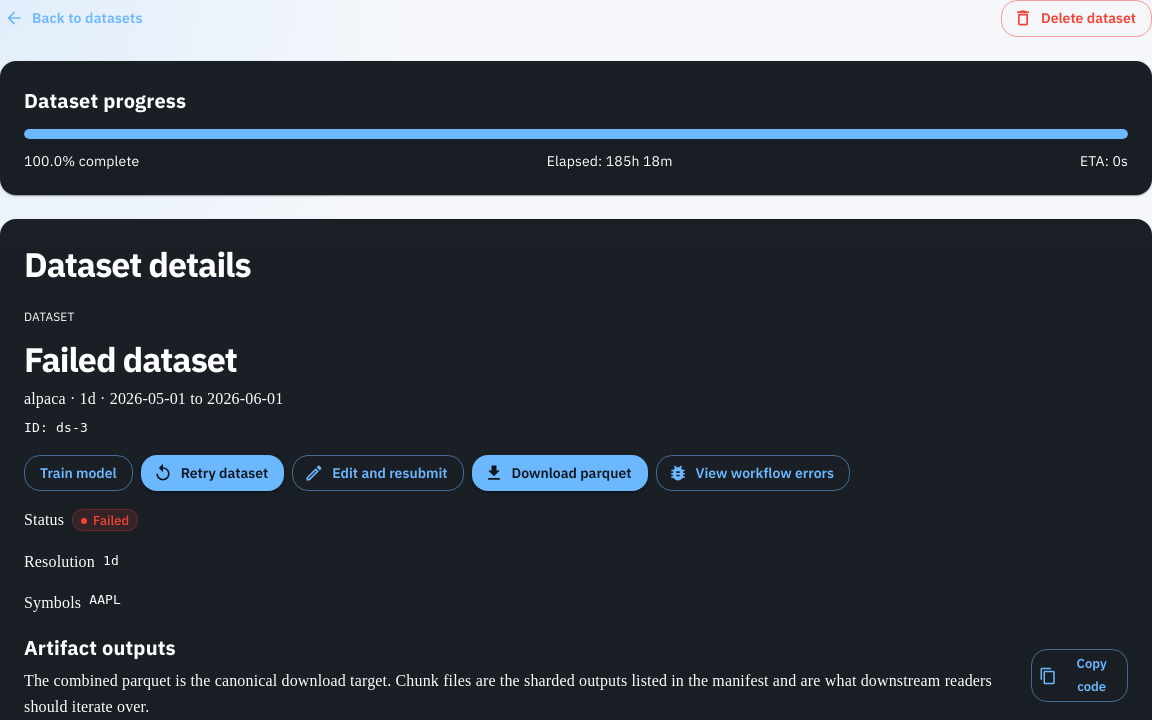
Scenario: DatasetDetailPage › shows a retry button for failed datasets and launches a retry through the confirmation modal
Click the button "Retry dataset". click: (213,473)
box: x1=141 y1=455 x2=284 y2=491
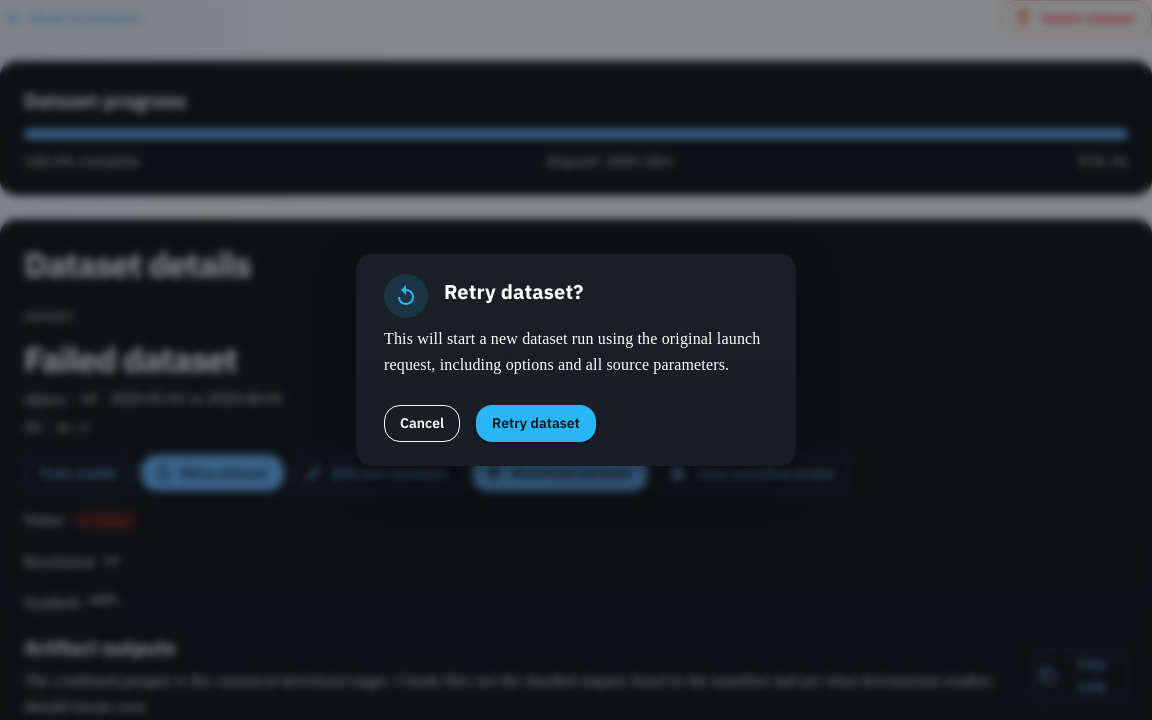
expect the text "Retry dataset?" is shown: met, box x1=444 y1=276 x2=583 y2=308
Click the button "Retry dataset". click: (536,424)
box: x1=476 y1=405 x2=596 y2=442
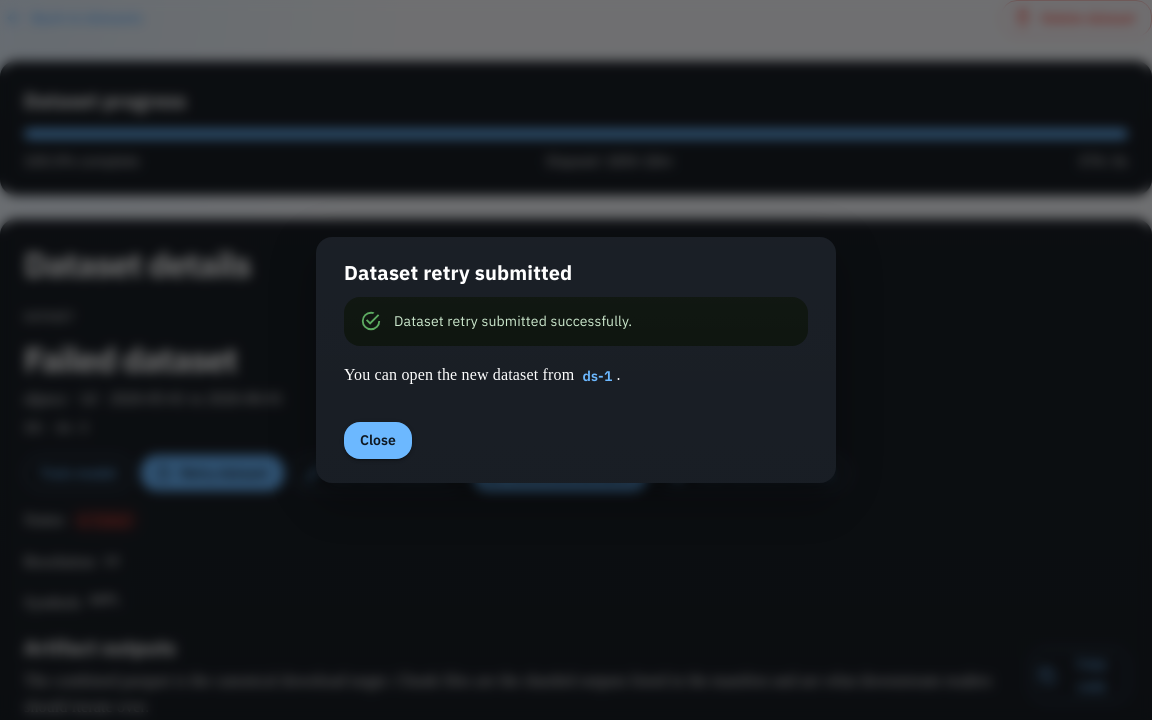
expect the heading "Dataset retry submitted" is shown: met, box x1=344 y1=260 x2=572 y2=286
expect the text "Dataset retry submitted successfully." is shown: met, box x1=394 y1=312 x2=632 y2=330
